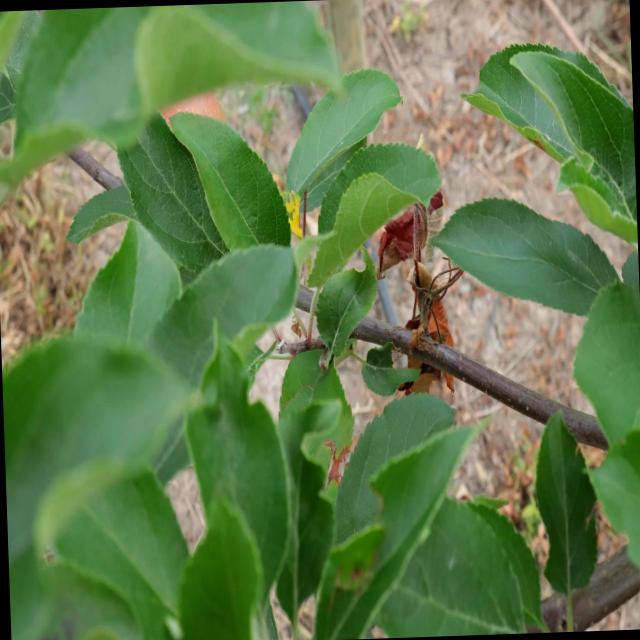-FireBlight-: (405, 227, 451, 349)
